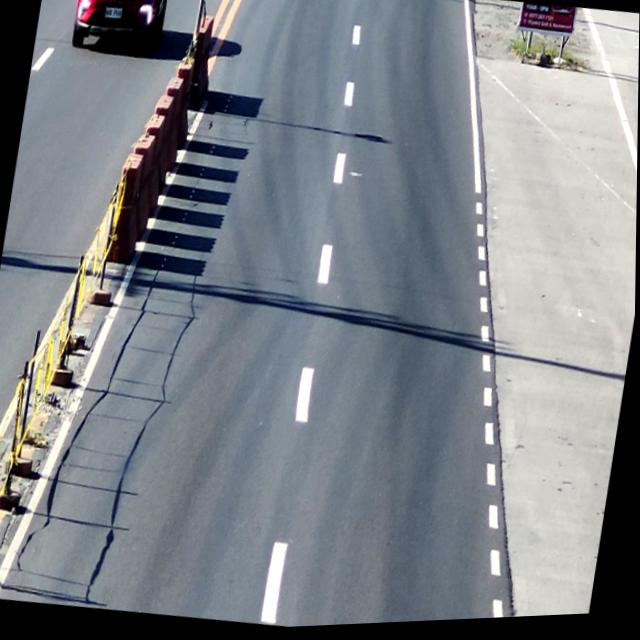License-Plate: (102, 4, 124, 23)
